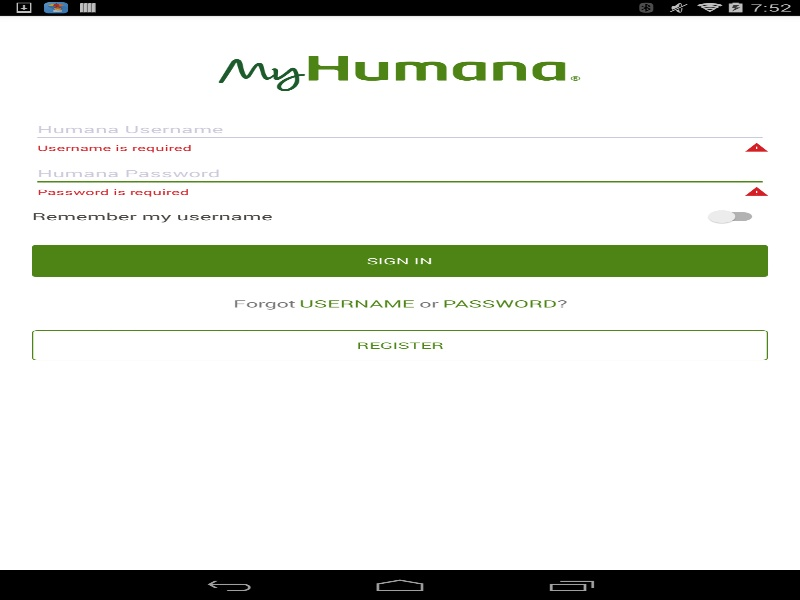Button: (32, 330, 768, 360)
Input: (32, 116, 768, 142), (32, 160, 768, 186)
